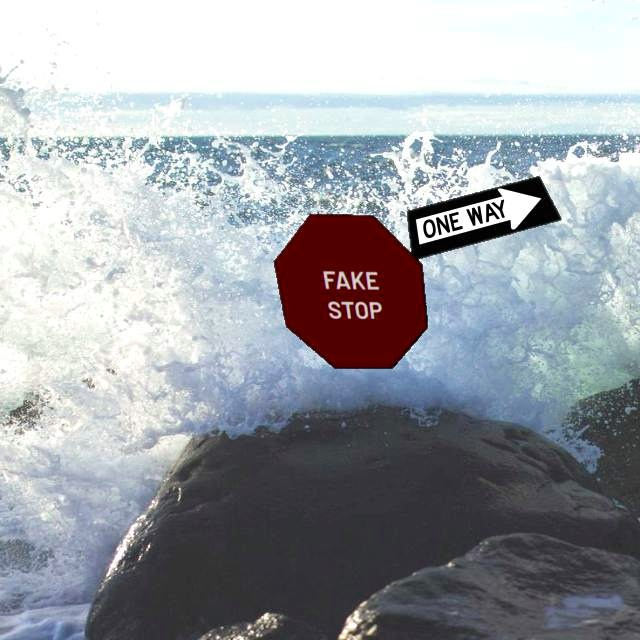FAKE_STOP: (273, 213, 428, 369)
ONE_WAY_ right: (406, 175, 562, 261)
